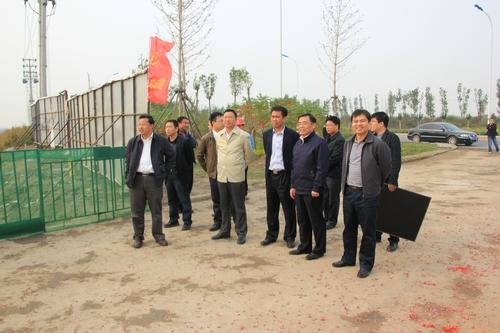boots: (332, 259, 355, 267), (289, 247, 312, 254), (211, 232, 230, 240), (306, 252, 324, 260), (357, 268, 371, 278), (260, 237, 276, 245), (133, 236, 143, 247), (386, 241, 398, 250), (164, 220, 179, 227), (209, 223, 220, 231), (325, 221, 336, 229), (156, 238, 168, 245), (237, 234, 246, 243), (182, 222, 191, 229), (287, 240, 295, 247)
person: (331, 108, 393, 278), (124, 114, 176, 248), (288, 113, 330, 259), (260, 106, 300, 248), (211, 109, 249, 243), (370, 111, 402, 251), (162, 119, 195, 231), (195, 112, 225, 230), (323, 115, 346, 229), (176, 116, 198, 214)
